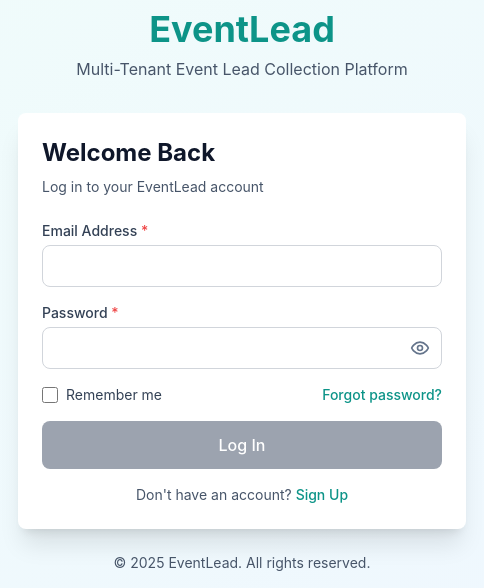
LoginForm Component › Password Visibility Toggle › should toggle password visibility
Step 1. Click the button named "show password" → [420, 348], box [410,338,430,358]
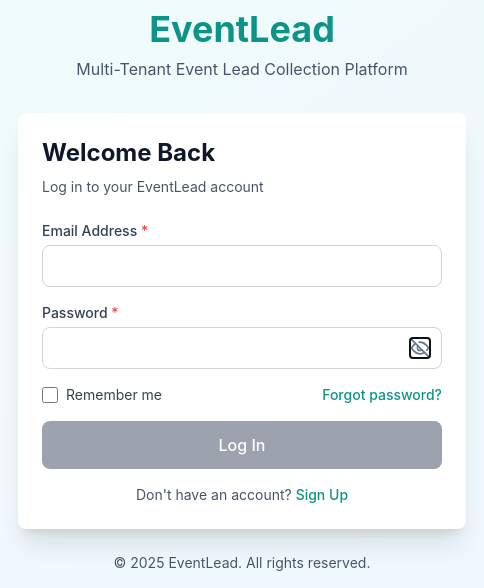
expect the button named "hide password" is shown: met, box [410,338,430,358]
